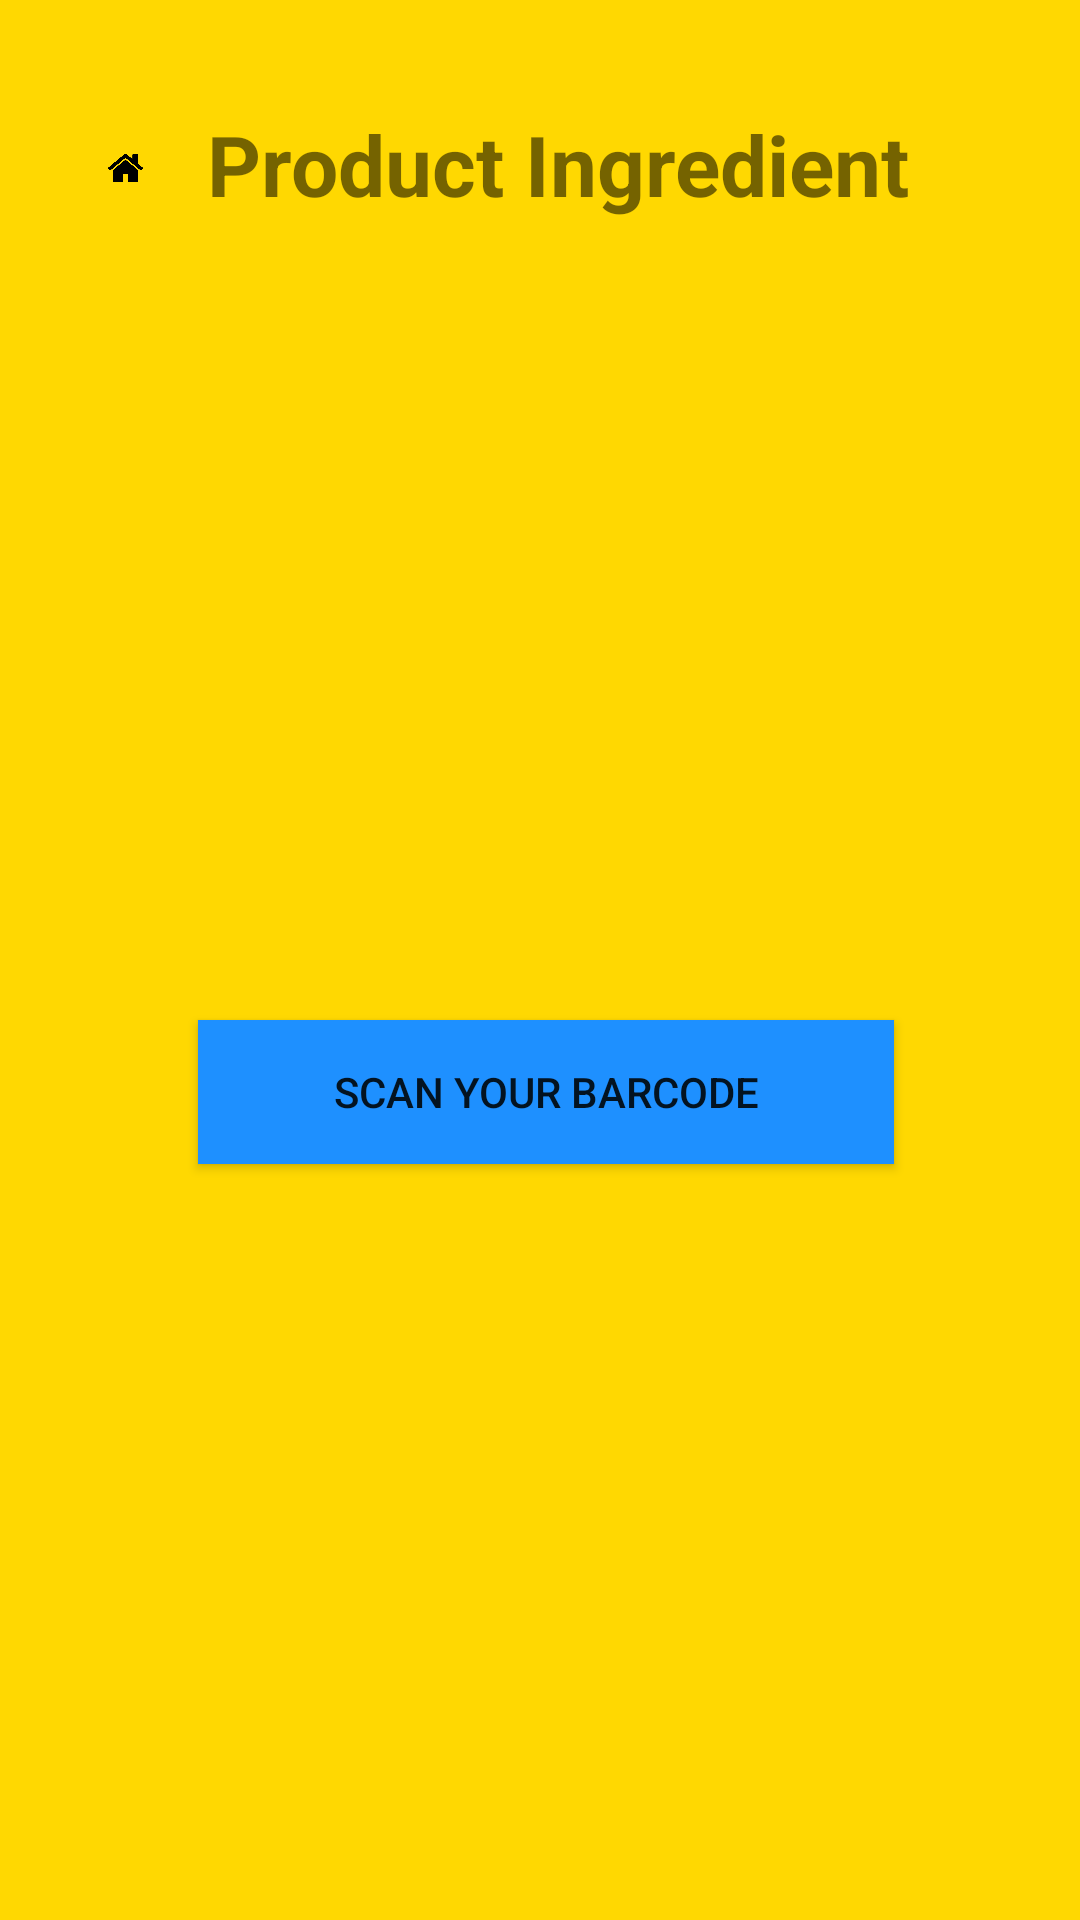

Icon bounding boxes for this 1080×1920 phone screenshot, format region(x1, y1, x2, y2):
home: region(108, 154, 143, 182)
